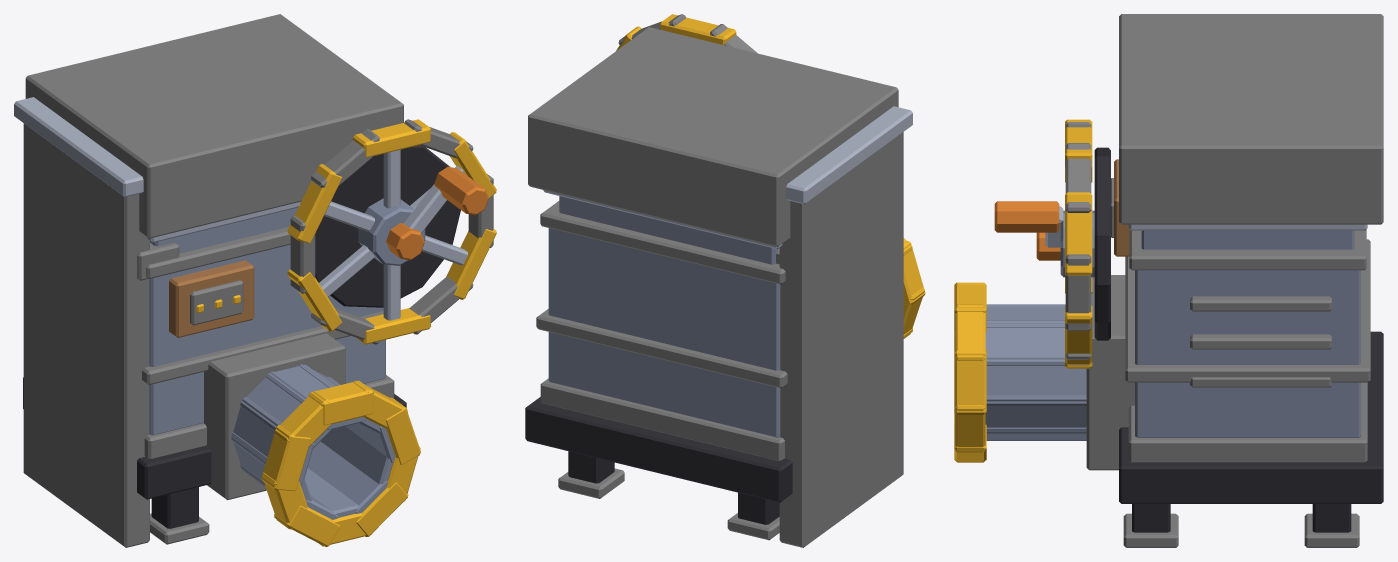
The model's file is crank.glb.
3 renders of one model, left to right at view 1: azimuth 30°, elevation 25°; view 2: azimuth 150°, elevation 25°; view 3: azimuth 270°, elevation 25°, orthographic. The views are drawn at different scales.
Visible parts, largest first — view 1: crank; view 2: crank; view 3: crank.
Boxes of the visible parts, <box> form: crank: <box>14,14,496,547</box>; crank: <box>525,14,925,547</box>; crank: <box>954,14,1383,547</box>.
Bounding box in the file's own units: 1.31 × 1.41 × 1.33.
